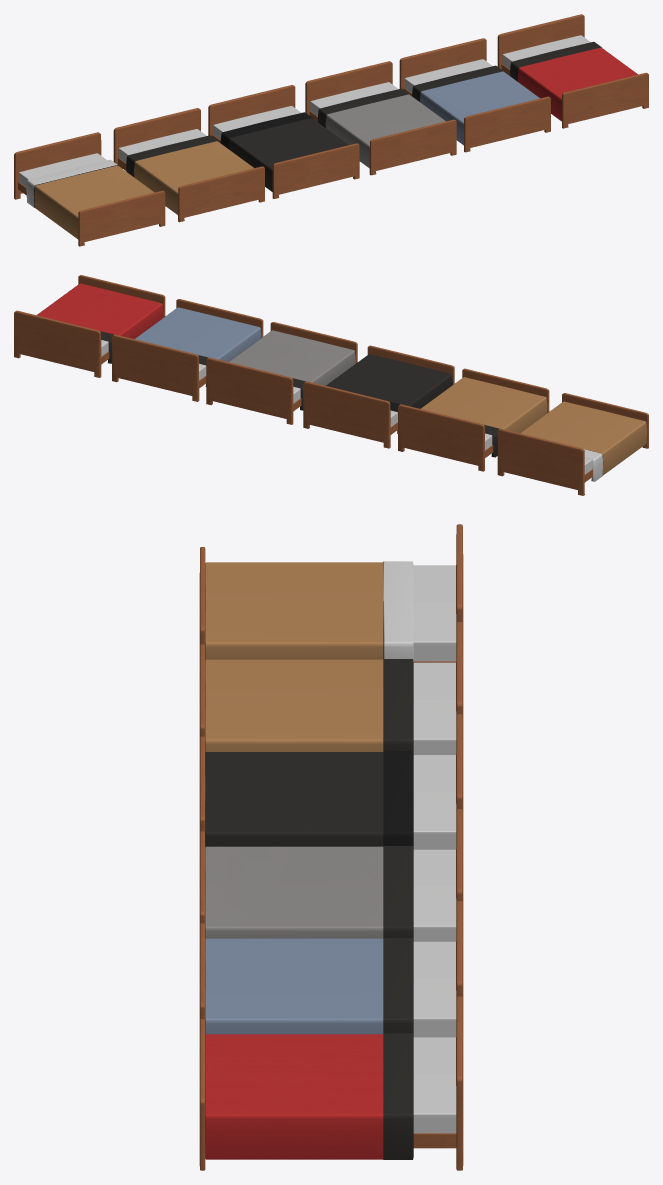
The model's file is Bed_v2.fbx.
3 renders of one model, top to bottom at view 1: azimuth 30°, elevation 25°; view 2: azimuth 150°, elevation 25°; view 3: azimuth 270°, elevation 25°, orthographic. The views are drawn at different scales.
Parts seen in each view (by area): view 1: Bed_002; view 2: Bed_002; view 3: Bed_002.
Boxes of the visible parts, <box> form: Bed_002: <box>14,14,648,246</box>; Bed_002: <box>14,275,648,495</box>; Bed_002: <box>199,524,463,1170</box>.
Size of the model in its own units: 0.4555 by 0.0351 by 0.0913.
